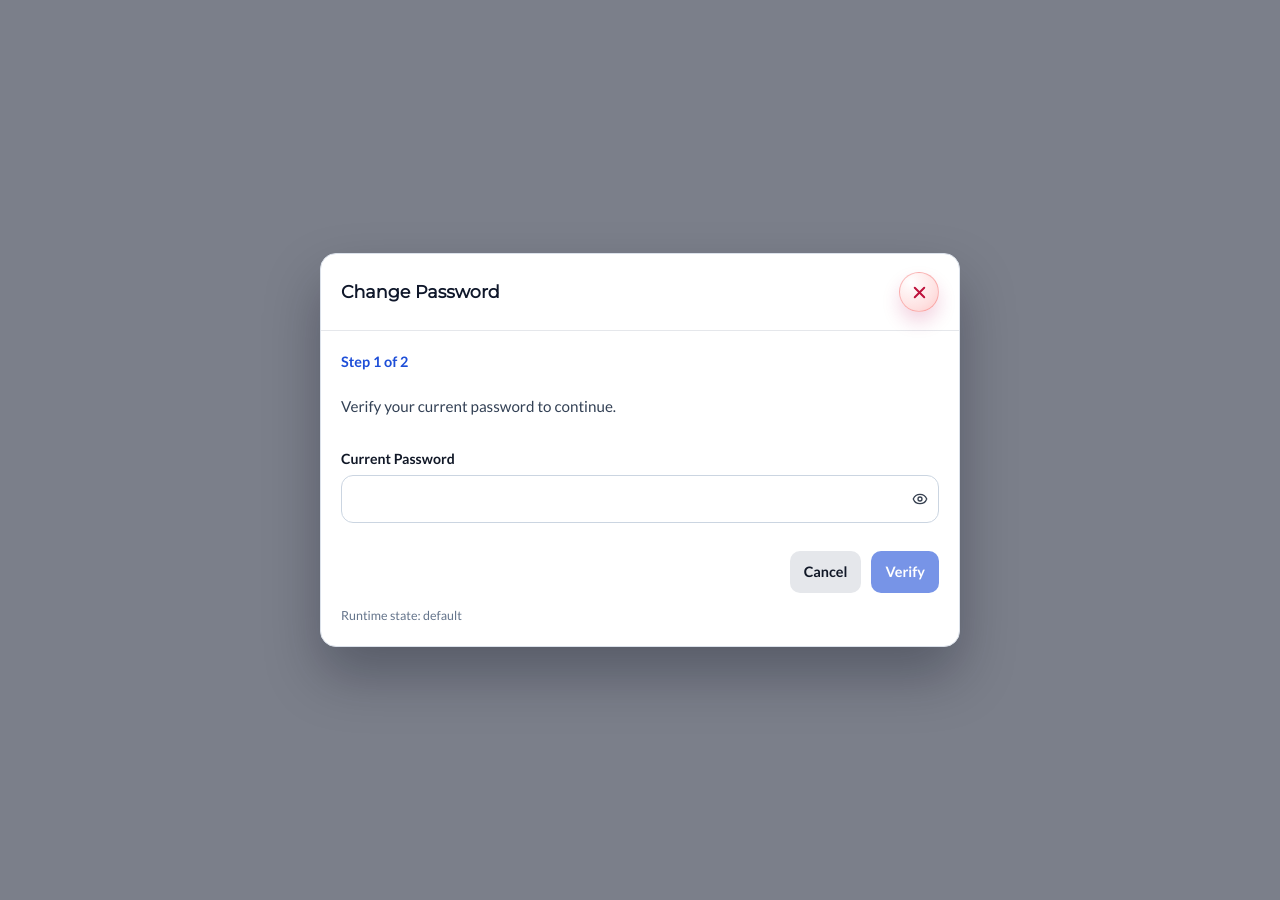
Test case: ChangePasswordModal › handles rate-limited update error state
In the password field labelled "Current Password": (618,499) 342,476 -> 894,522, type "CurrentPass123!"
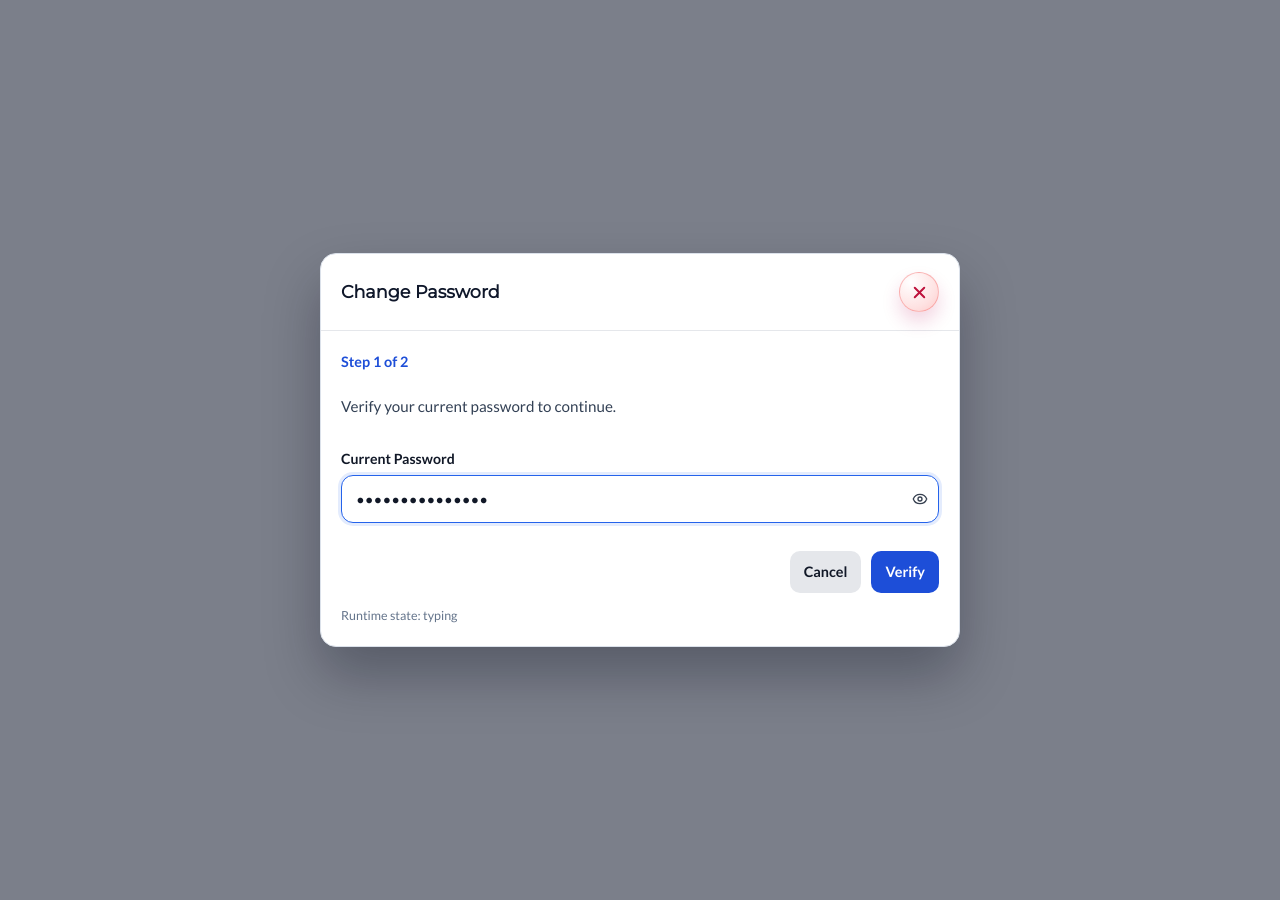
Click the button "Verify": (905,572) 872,552 -> 939,593
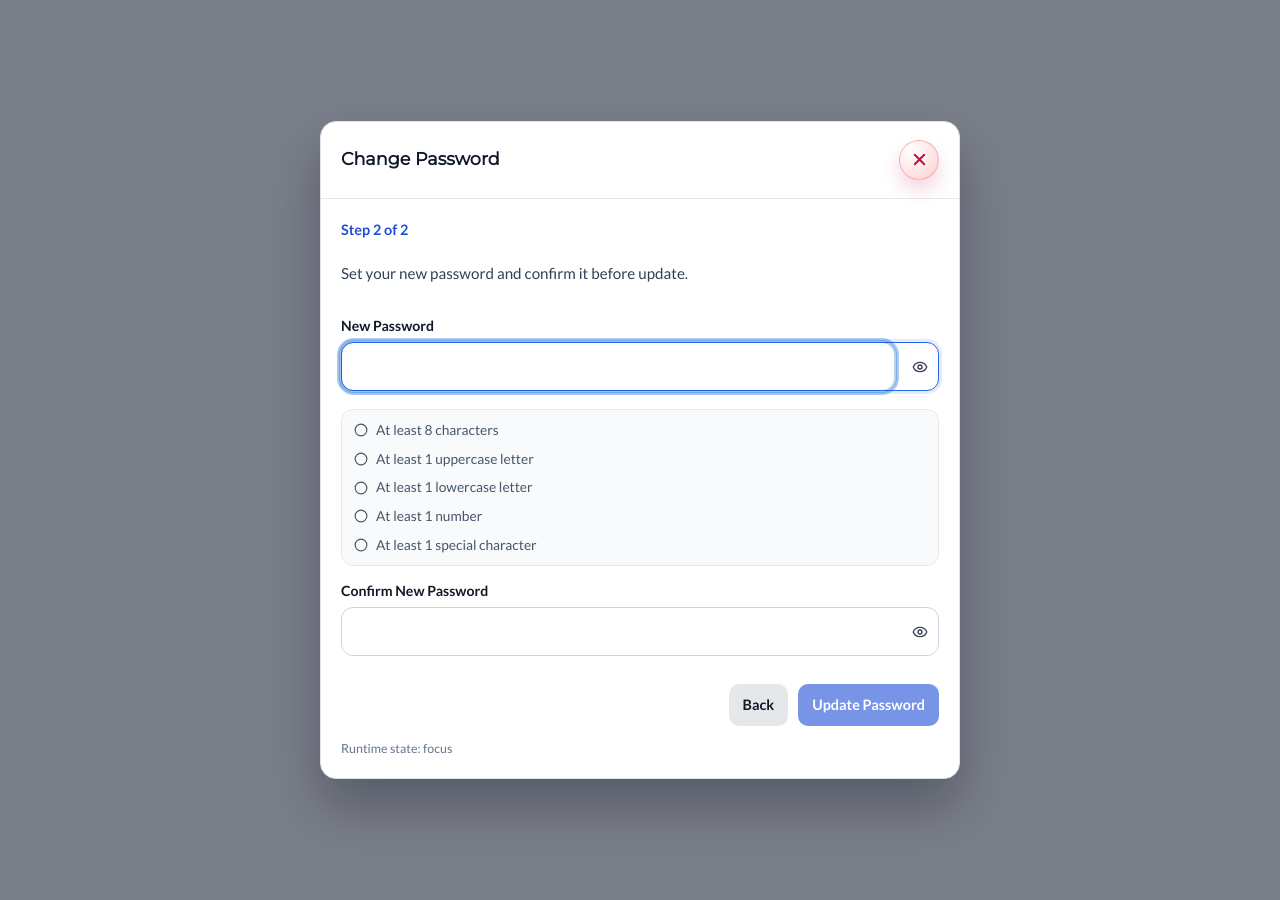
Expected: the text "Step 2 of 2" is shown, 341,221 -> 408,238
In the password field labelled "New Password": (618,367) 342,343 -> 894,390, type "NewStrongPass123!"
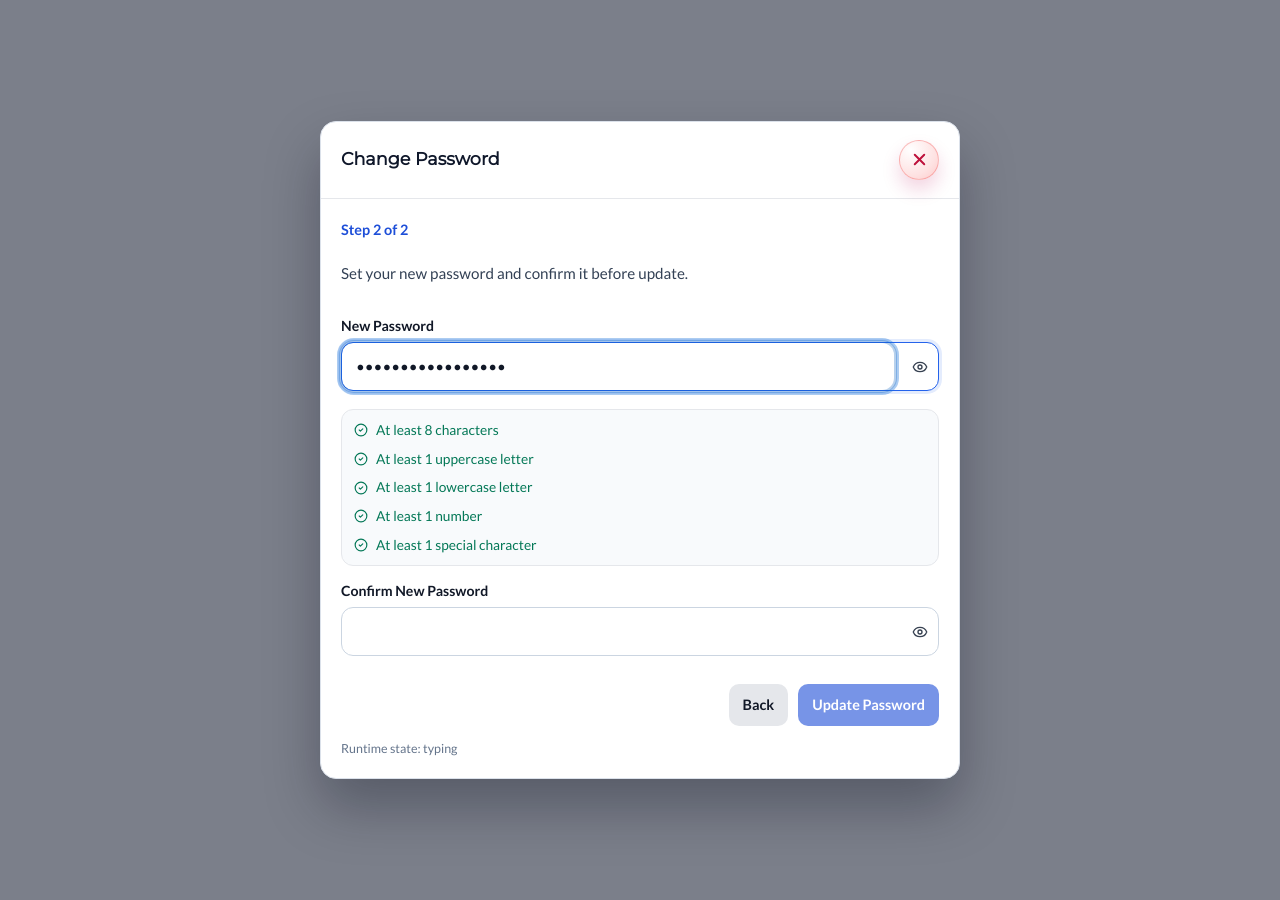
In the password field labelled "Confirm New Password": (618,632) 342,608 -> 894,655, type "NewStrongPass123!"
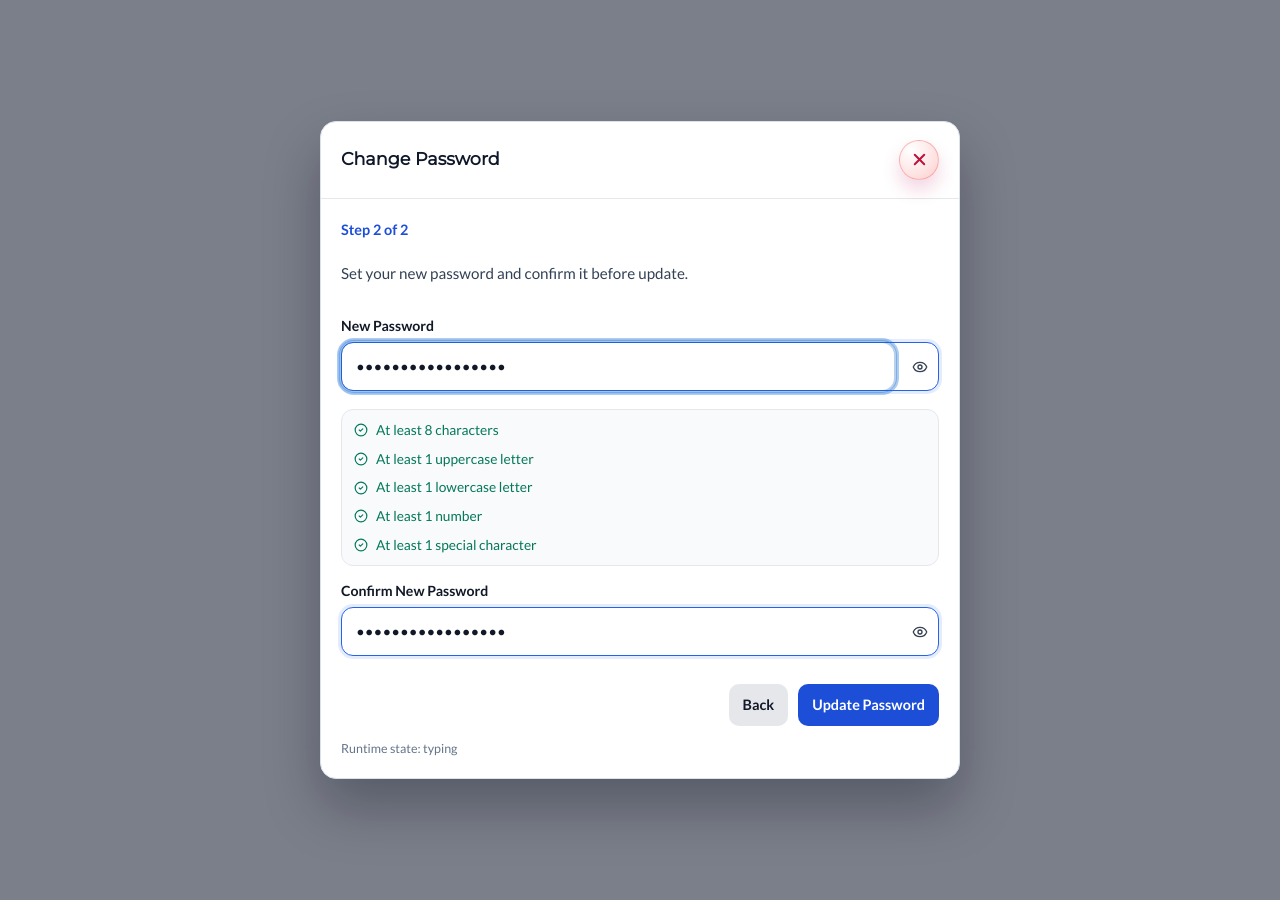
Click the button "Update Password": (869,705) 798,684 -> 939,726
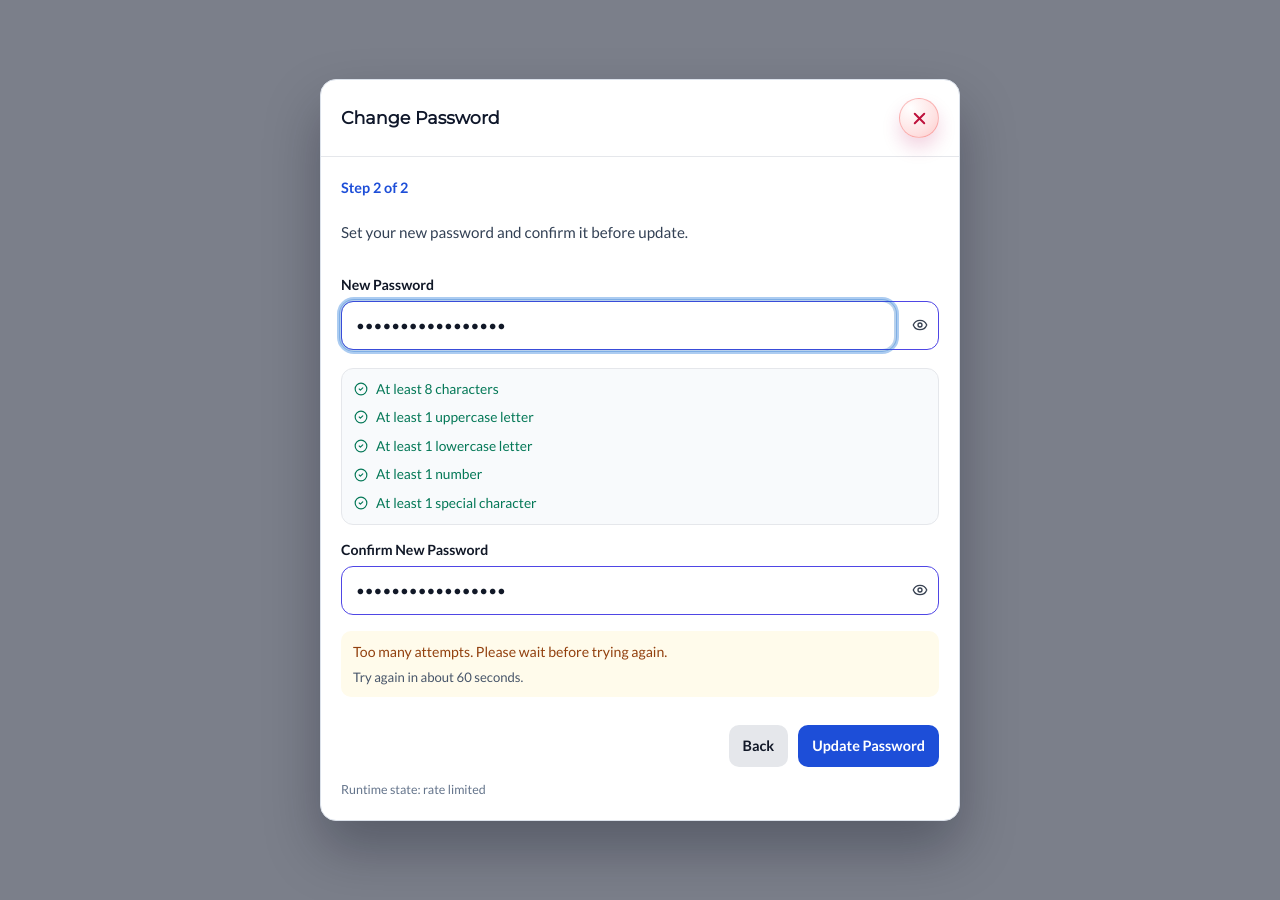
Expected: the text "Too many attempts. Please wait before trying again." is shown, 353,643 -> 667,660
Expected: the text "Try again in about 60 seconds." is shown, 353,669 -> 523,685
